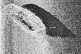ship: (3, 4, 47, 37)
